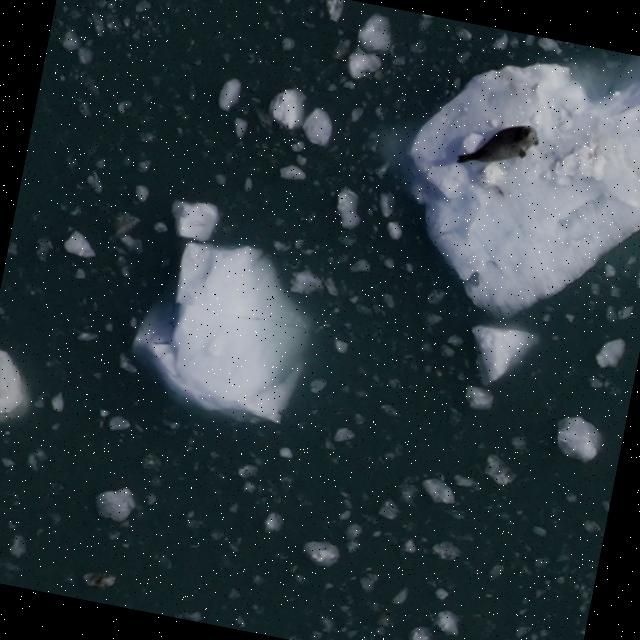seal: (453, 110, 548, 180)
